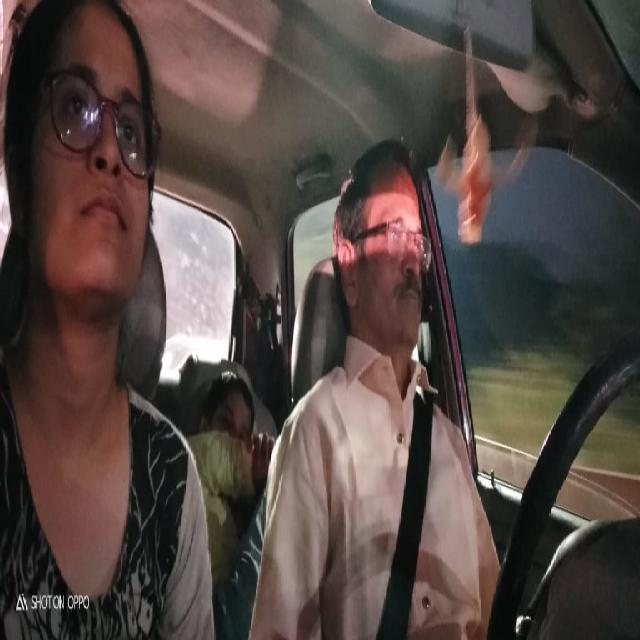person: (7, 0, 165, 333), (332, 123, 442, 361), (204, 360, 260, 457)
